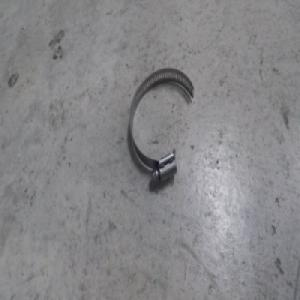AdjustableClamp: (128, 67, 193, 183)
